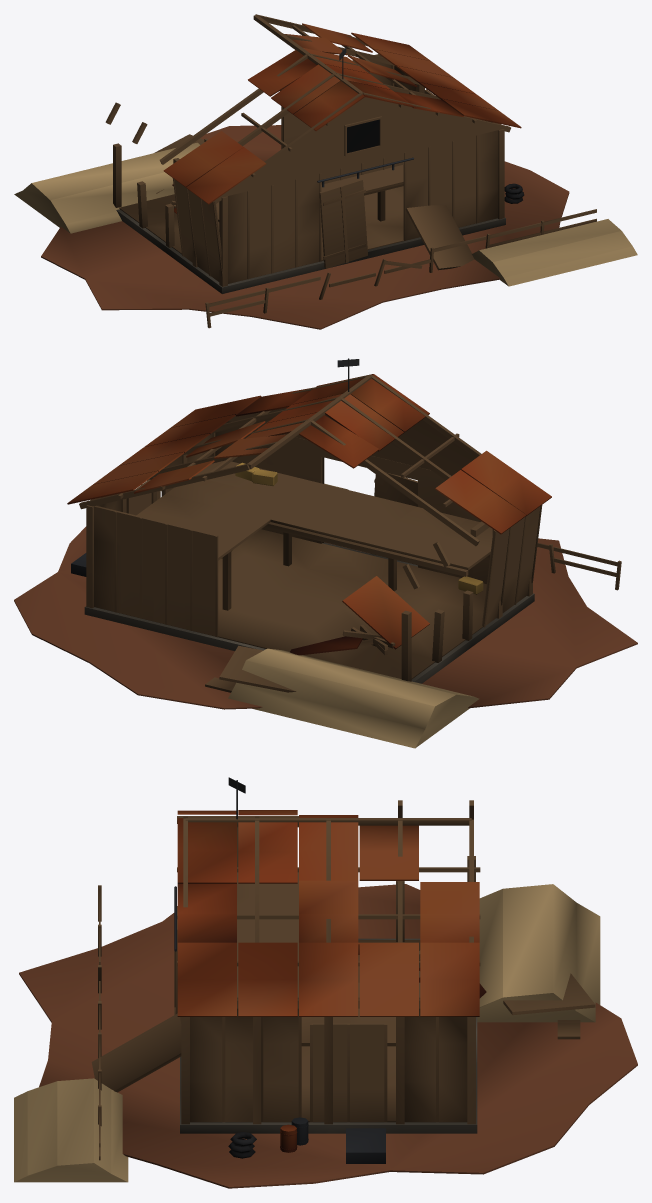
Rendered from barn_ruin.glb.
3 renders of one model, top to bottom at view 1: azimuth 30°, elevation 25°; view 2: azimuth 150°, elevation 25°; view 3: azimuth 270°, elevation 25°, orthographic. The views are drawn at different scales.
Visible parts, largest first — view 1: wood, dirt_red, rust, sand, concrete_dark, metal_dark; view 2: wood, dirt_red, rust, sand, concrete_dark; view 3: dirt_red, rust, wood, sand, concrete_dark, metal_dark, rubber.
Boxes of the visible parts, bbox=[...] form: wood: bbox=[105, 14, 596, 328]; dirt_red: bbox=[41, 125, 569, 329]; rust: bbox=[163, 23, 521, 213]; sand: bbox=[14, 142, 637, 286]; concrete_dark: bbox=[116, 209, 505, 293]; metal_dark: bbox=[317, 47, 413, 187]; wood: bbox=[79, 374, 621, 692]; dirt_red: bbox=[14, 526, 637, 709]; rust: bbox=[67, 374, 551, 655]; sand: bbox=[161, 462, 483, 748]; concrete_dark: bbox=[84, 542, 534, 683]; dirt_red: bbox=[19, 884, 637, 1188]; rust: bbox=[177, 810, 486, 1152]; wood: bbox=[91, 800, 595, 1160]; sand: bbox=[14, 884, 600, 1182]; concrete_dark: bbox=[180, 938, 477, 1133]; metal_dark: bbox=[174, 777, 385, 1163]; rubber: bbox=[228, 1132, 256, 1158].
Size of what is drawn, in the model's own units: 25.54 by 10.31 by 21.81.
